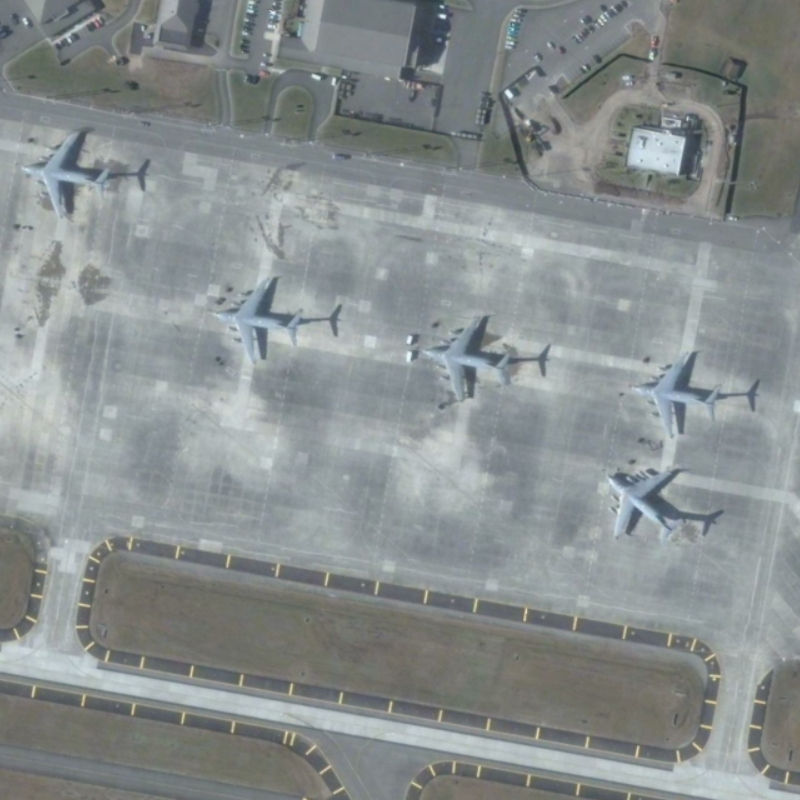A3: (201, 271, 304, 372), (16, 125, 116, 229), (625, 347, 726, 446), (418, 313, 517, 408), (599, 463, 692, 544)
